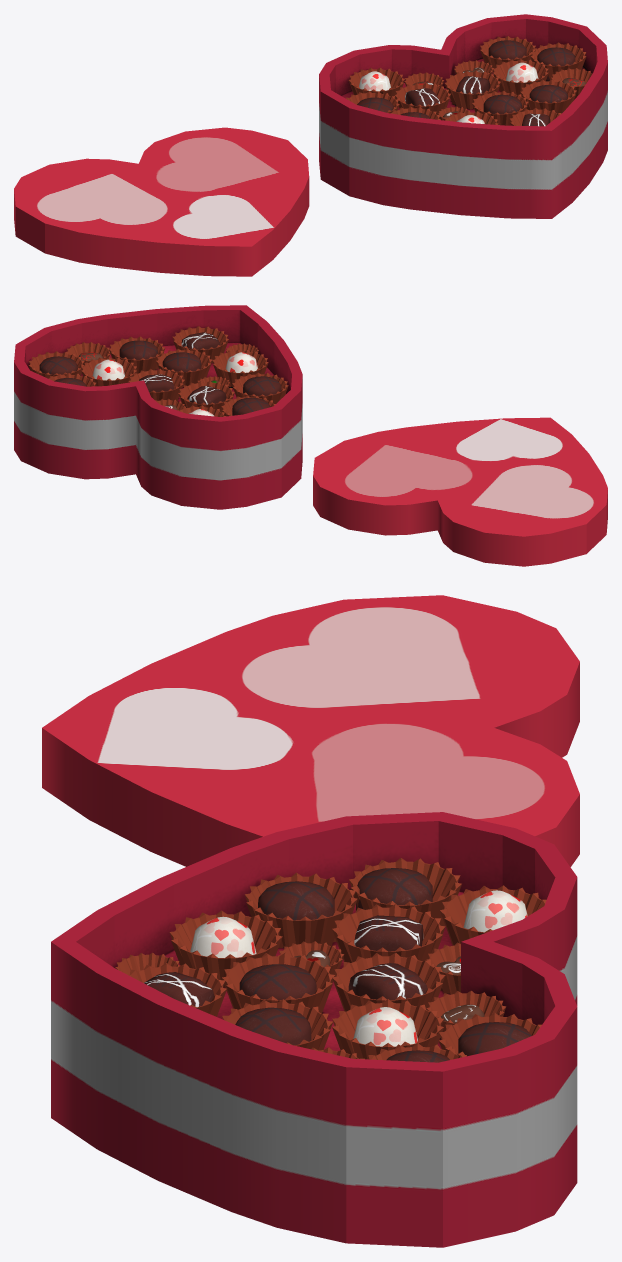
Rendered from chocolate_heart_-_valentine_s_day.glb.
3 views of the same model, one above another, from view 1: azimuth 30°, elevation 25°; view 2: azimuth 150°, elevation 25°; view 3: azimuth 270°, elevation 25° (orthographic). The views are drawn at different scales.
Parts seen in each view (by area): view 1: CajaCorazon, Box005, Cylinder001, ConoCircular, ChocoCuadrados, ChocoCono; view 2: CajaCorazon, Box005, Cylinder001, ConoCircular, ChocoCuadrados, ChocoCono; view 3: CajaCorazon, Box005, Cylinder001, ConoCircular, ChocoCono, ChocoCuadrados, ChocoCorazon.
Part boxes in pixels (left/top/right/bottom): CajaCorazon: left=319, top=14, right=607, bottom=218; Box005: left=14, top=127, right=309, bottom=276; Cylinder001: left=346, top=36, right=592, bottom=125; ConoCircular: left=357, top=40, right=575, bottom=118; ChocoCuadrados: left=405, top=76, right=550, bottom=126; ChocoCono: left=359, top=62, right=538, bottom=123; CajaCorazon: left=14, top=305, right=302, bottom=509; Box005: left=313, top=417, right=607, bottom=566; Cylinder001: left=28, top=326, right=288, bottom=416; ConoCircular: left=39, top=340, right=281, bottom=415; ChocoCuadrados: left=139, top=332, right=226, bottom=404; ChocoCono: left=92, top=352, right=257, bottom=416; CajaCorazon: left=51, top=812, right=577, bottom=1247; Box005: left=42, top=595, right=579, bottom=866; Cylinder001: left=115, top=858, right=546, bottom=1060; ConoCircular: left=235, top=868, right=531, bottom=1062; ChocoCono: left=190, top=890, right=527, bottom=1046; ChocoCuadrados: left=144, top=915, right=427, bottom=1007; ChocoCorazon: left=294, top=950, right=484, bottom=1023.
Bounding box in the file's own units: 19.38 × 2.86 × 7.91.
7 materials, 7 textured.
